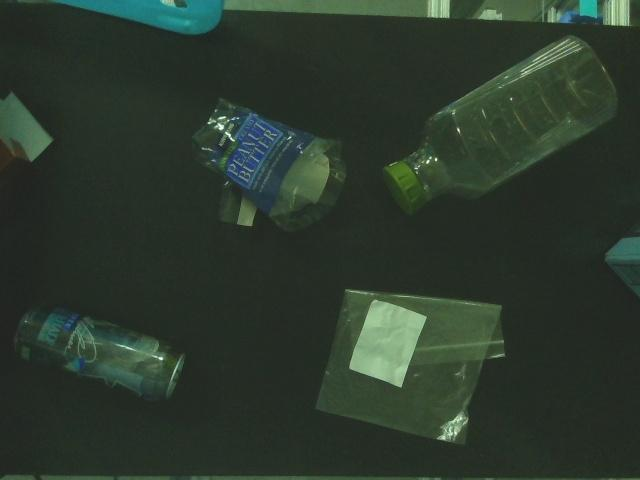cardboard: (1, 86, 58, 194), (601, 226, 640, 307)
metal: (11, 295, 192, 410)
plastic: (377, 31, 623, 219), (311, 286, 512, 450), (191, 91, 352, 238)
